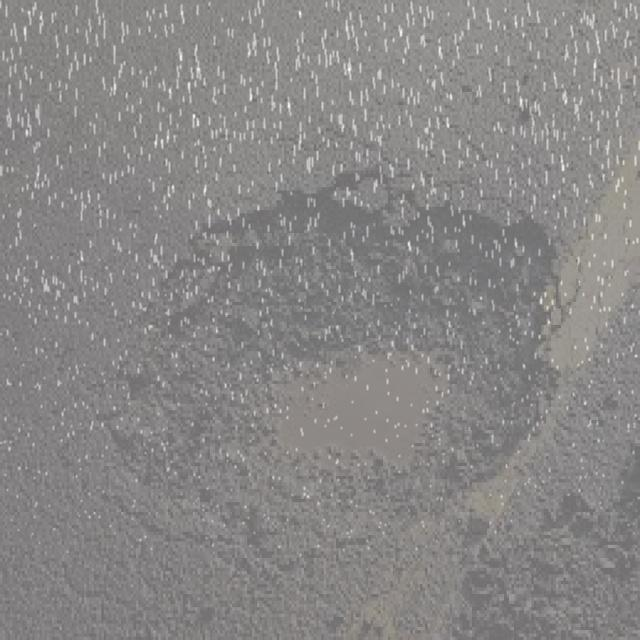Pothole: (76, 160, 590, 516)
